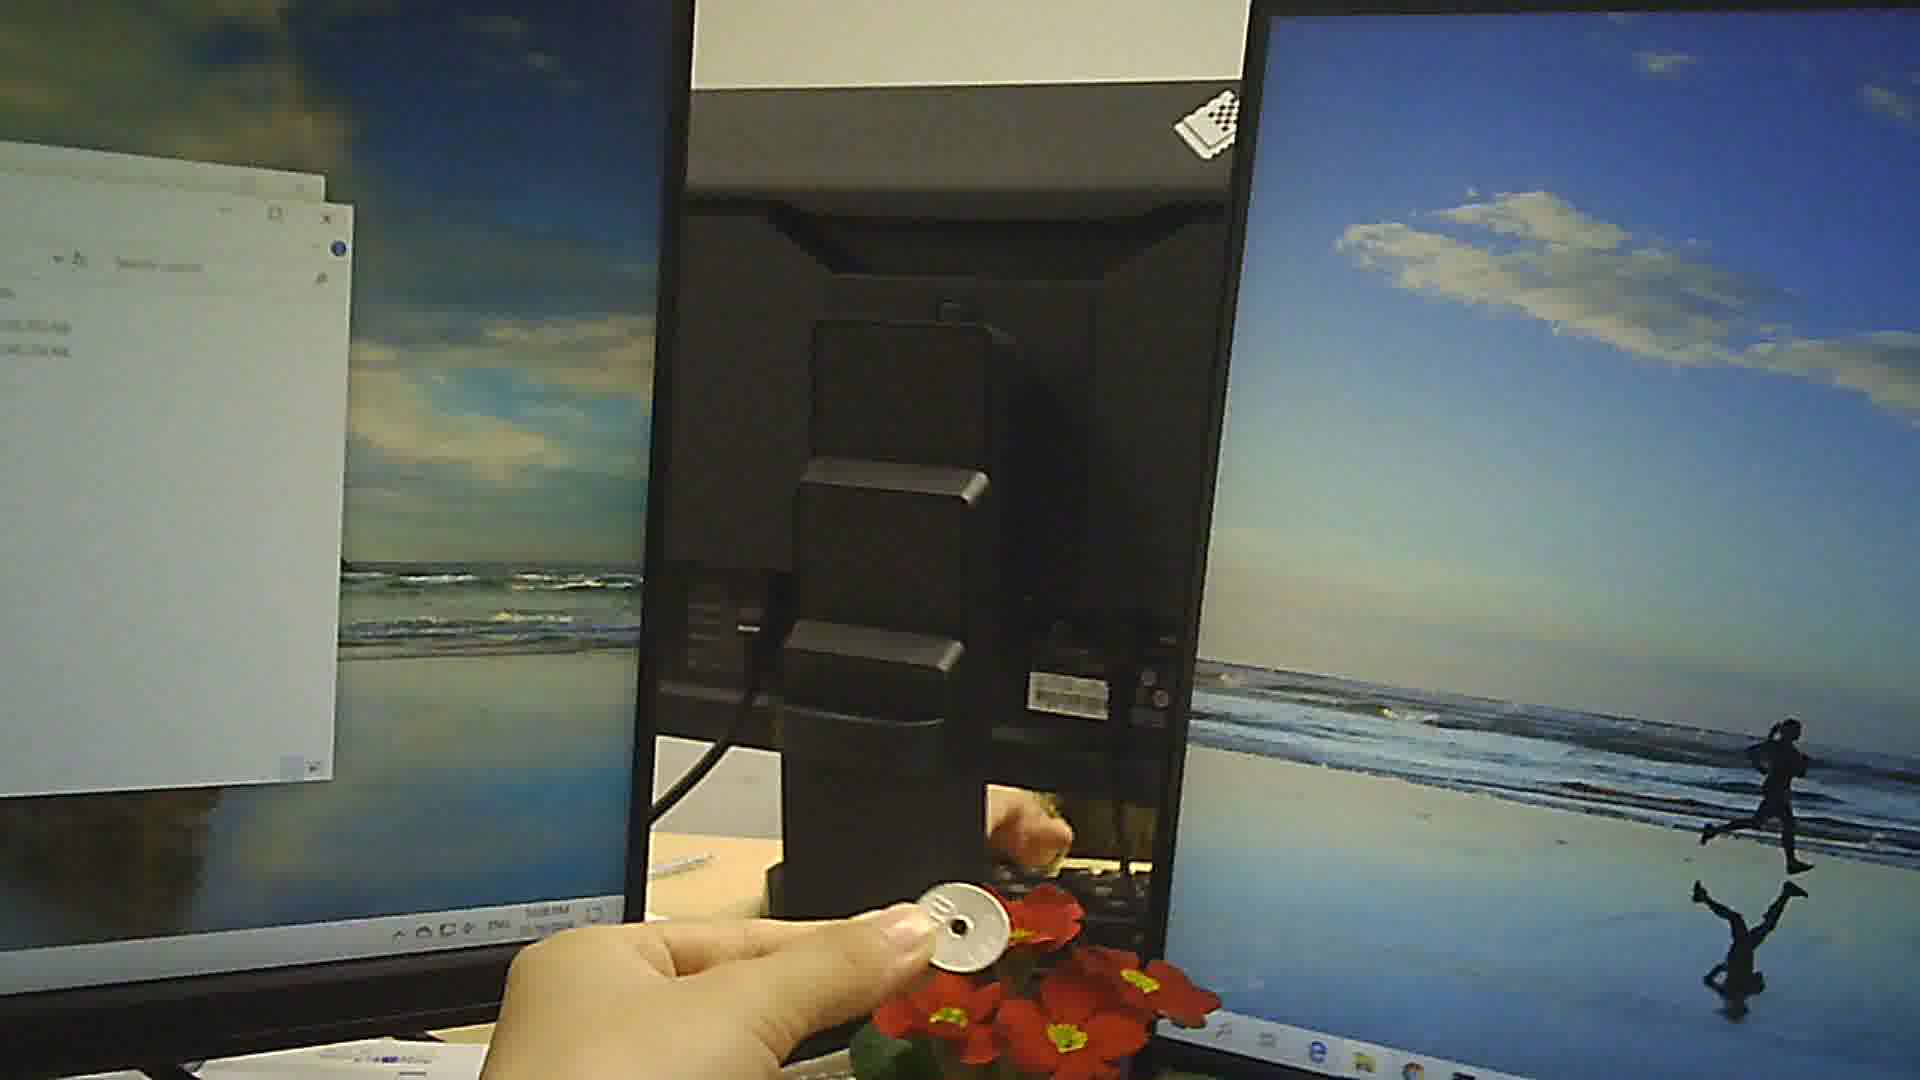50 Yen: (907, 876, 1026, 973)
